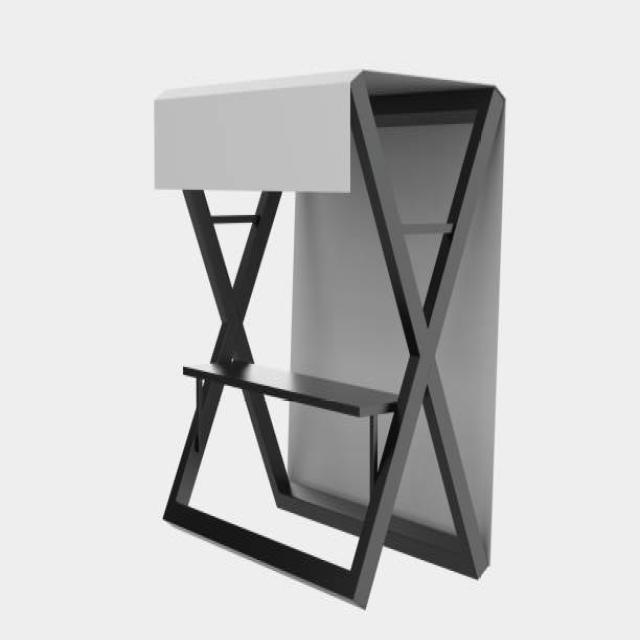table: (152, 66, 506, 609)
